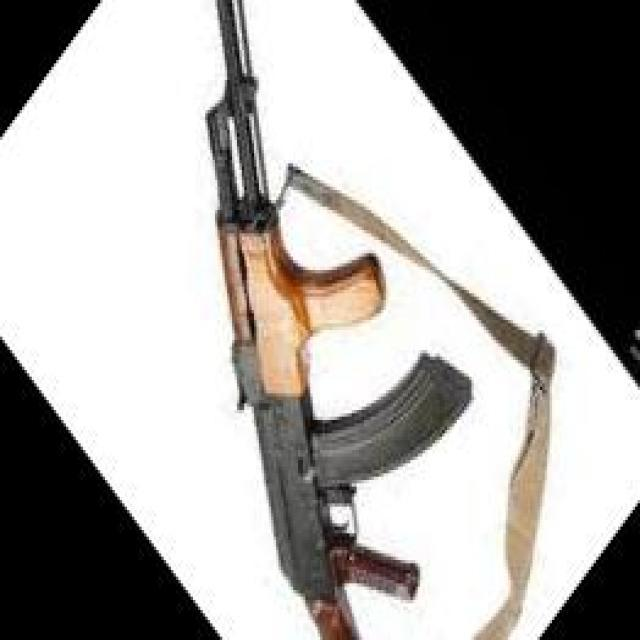weapon: (204, 0, 477, 640)
